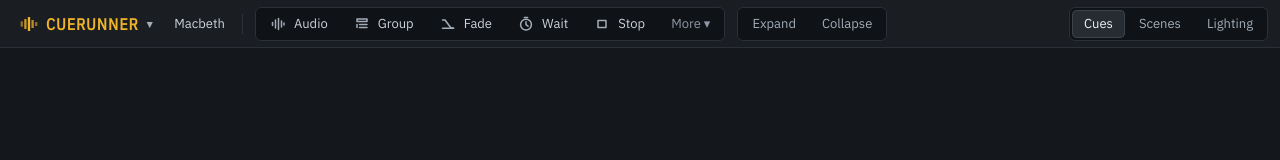
Test: Toolbar › does not mark the show unsaved when its name field is opened and left as it was
Double-click the element with class "workspace-name-text".
double_click(200, 24)  # box [174, 15, 225, 32]
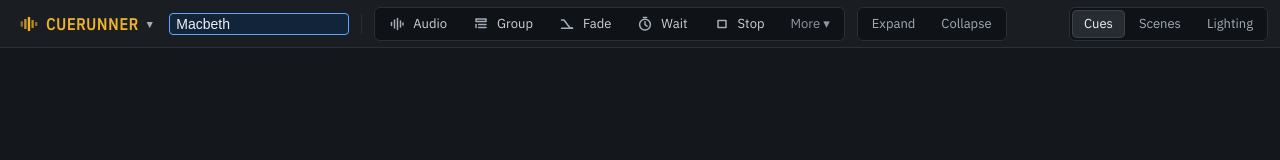
Leave the field with class "workspace-name-input", box [169, 12, 349, 34]
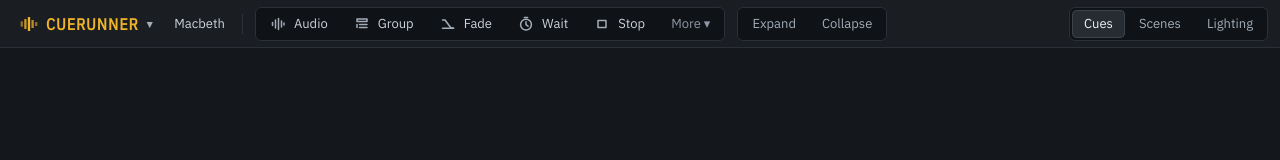
Check: the element with class "workspace-name-text" reads "Macbeth", box [174, 15, 225, 32]
